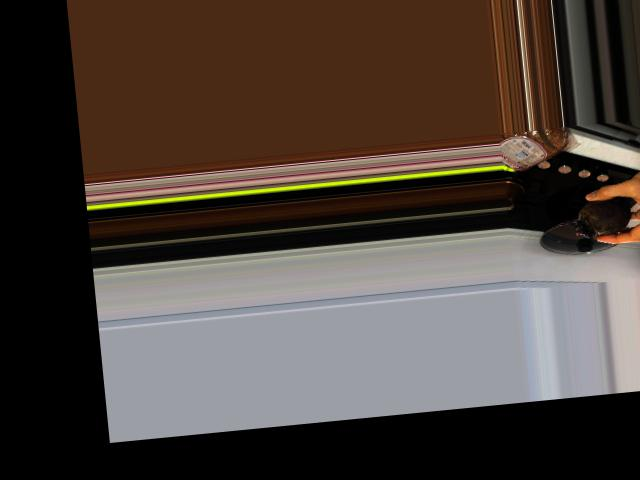beet: (571, 196, 635, 238)
